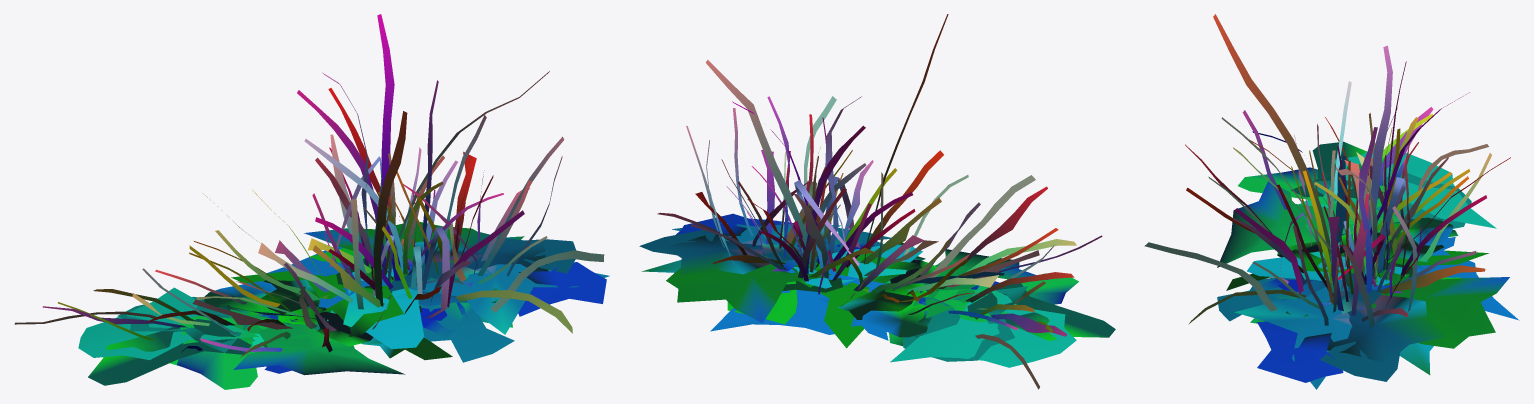
The model's file is Wild_Grass_vdilbaiia_Mid_vdilbaiia_VarL_LOD0.fbx.
3 renders of one model, left to right at view 1: azimuth 30°, elevation 25°; view 2: azimuth 150°, elevation 25°; view 3: azimuth 270°, elevation 25°, orthographic. The views are drawn at different scales.
Parts seen in each view (by area): view 1: _9179_VarL_LOD1; view 2: _9179_VarL_LOD1; view 3: _9179_VarL_LOD1.
Part boxes in pixels (<box>): _9179_VarL_LOD1: <box>14,14,609,389</box>; _9179_VarL_LOD1: <box>639,14,1115,389</box>; _9179_VarL_LOD1: <box>1144,14,1519,389</box>.
Size of the model in its own units: 127 by 64.16 by 85.41.
